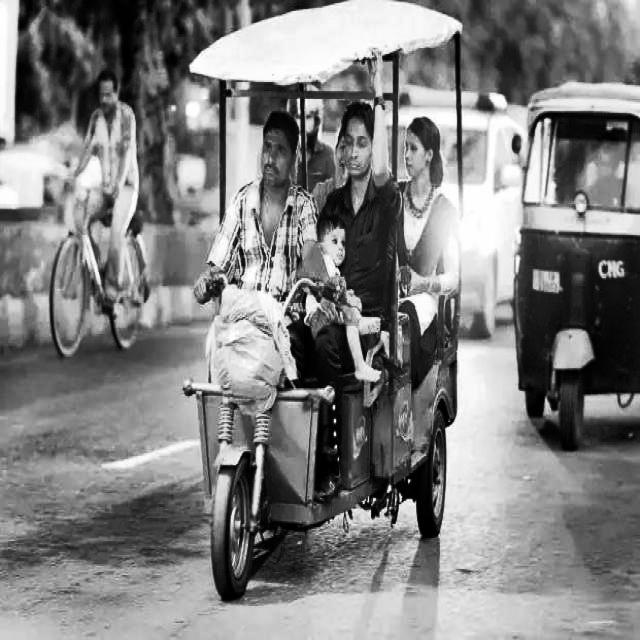Toto: (189, 0, 463, 605)
